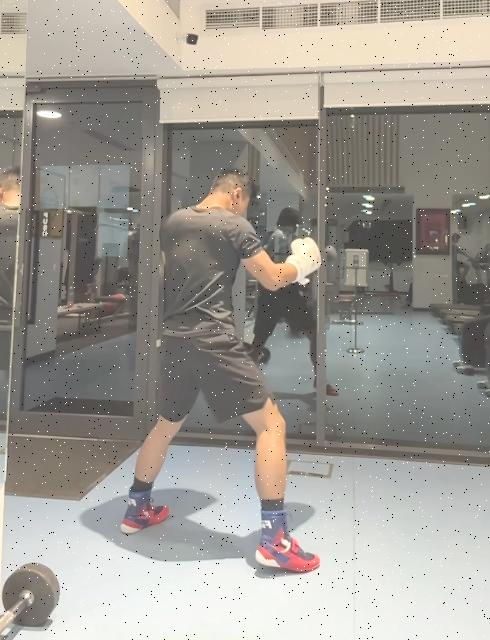punch: (122, 167, 324, 576)
